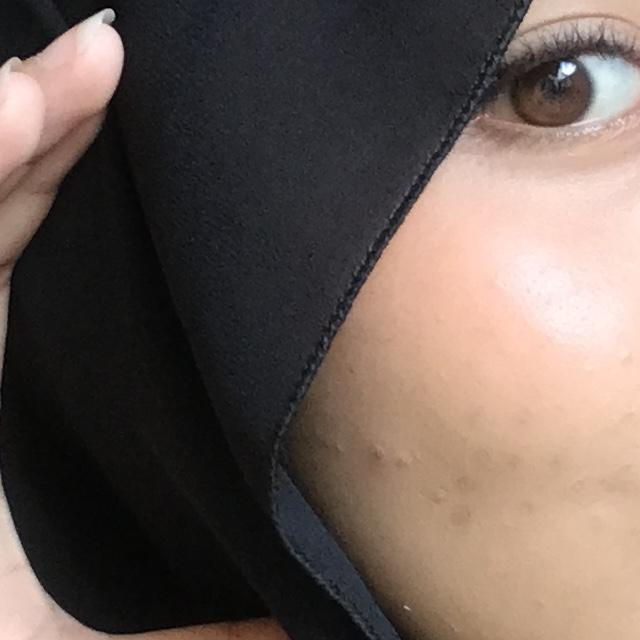mendengar: (0, 6, 345, 640)
